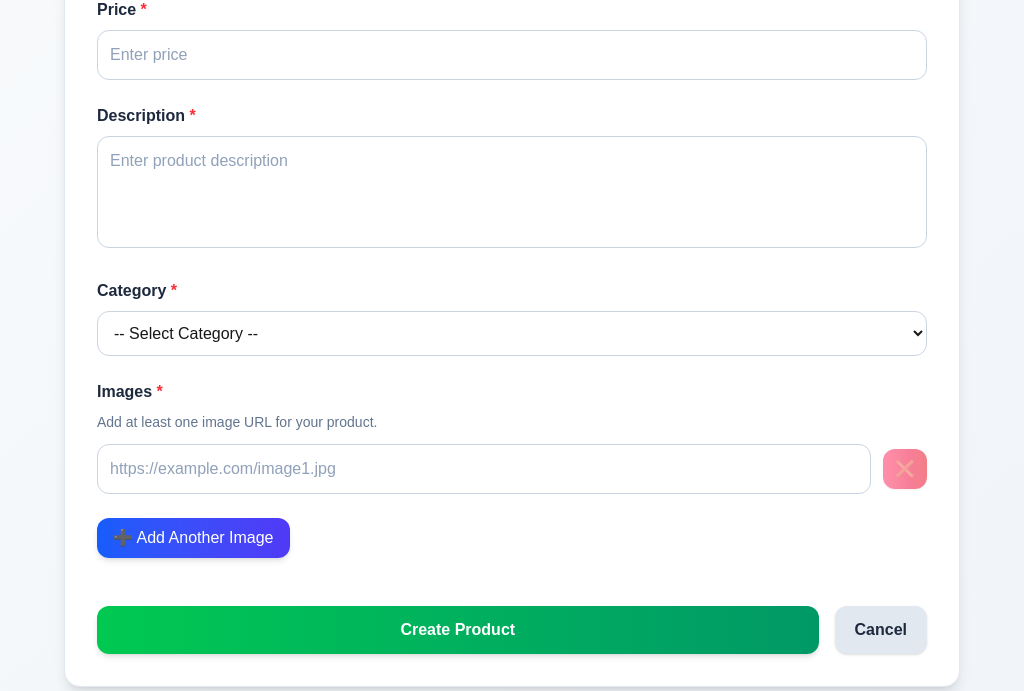
Test: Create Product Page › shows validation error when submitting empty form
(page scrolled)
Click the button "Create Product" at (458, 630), box [97,606,818,654]
(page scrolled)
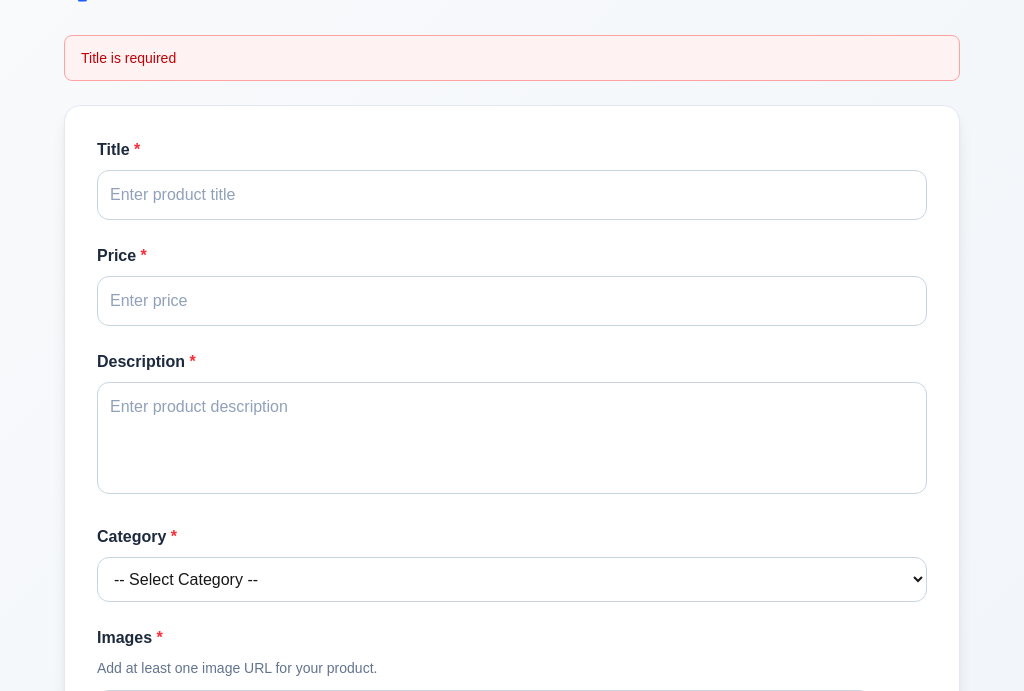
Result: the text "Title is required" is shown at [64,35,960,81]
